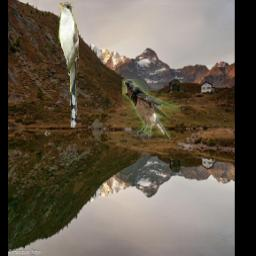Cuckoo: (58, 2, 79, 127)
Swallow: (122, 79, 181, 142)
